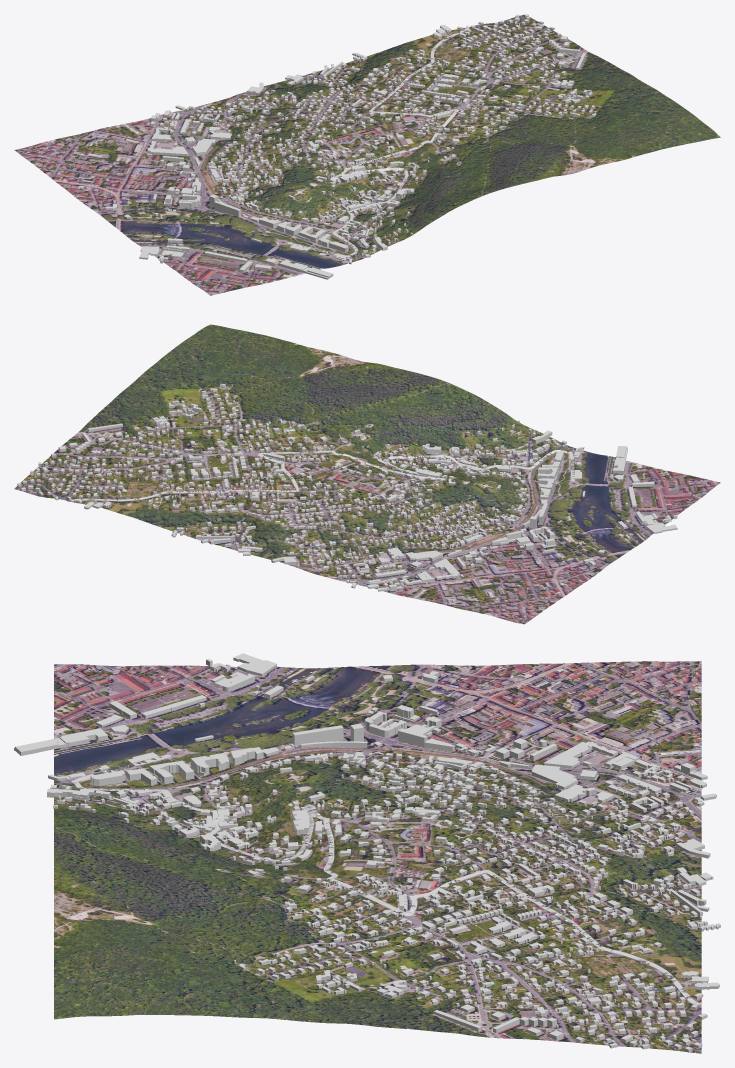
The model's file is france-besancon-bregille.glb.
3 views of the same model, one above another, from view 1: azimuth 30°, elevation 25°; view 2: azimuth 150°, elevation 25°; view 3: azimuth 270°, elevation 25° (orthographic). The views are drawn at different scales.
Parts seen in each view (by area): view 1: Terrain, Route; view 2: Terrain, Route; view 3: Terrain, Route, 234277593, 33618326, 33607966, 54907546.
Boxes of the visible parts, x1,y1,x2,y2 form: Terrain: (14,14,720,295); Route: (287,25,469,257); Terrain: (14,324,720,624); Route: (70,450,574,501); Terrain: (54,661,701,1053); Route: (71,754,701,1005); 234277593: (544,741,617,768); 33618326: (292,725,343,745); 33607966: (149,760,194,784); 54907546: (531,764,577,789).
Bounding box in the file's own units: 2843 × 205 × 2003.
Materials: 1 (1 with a texture image).
